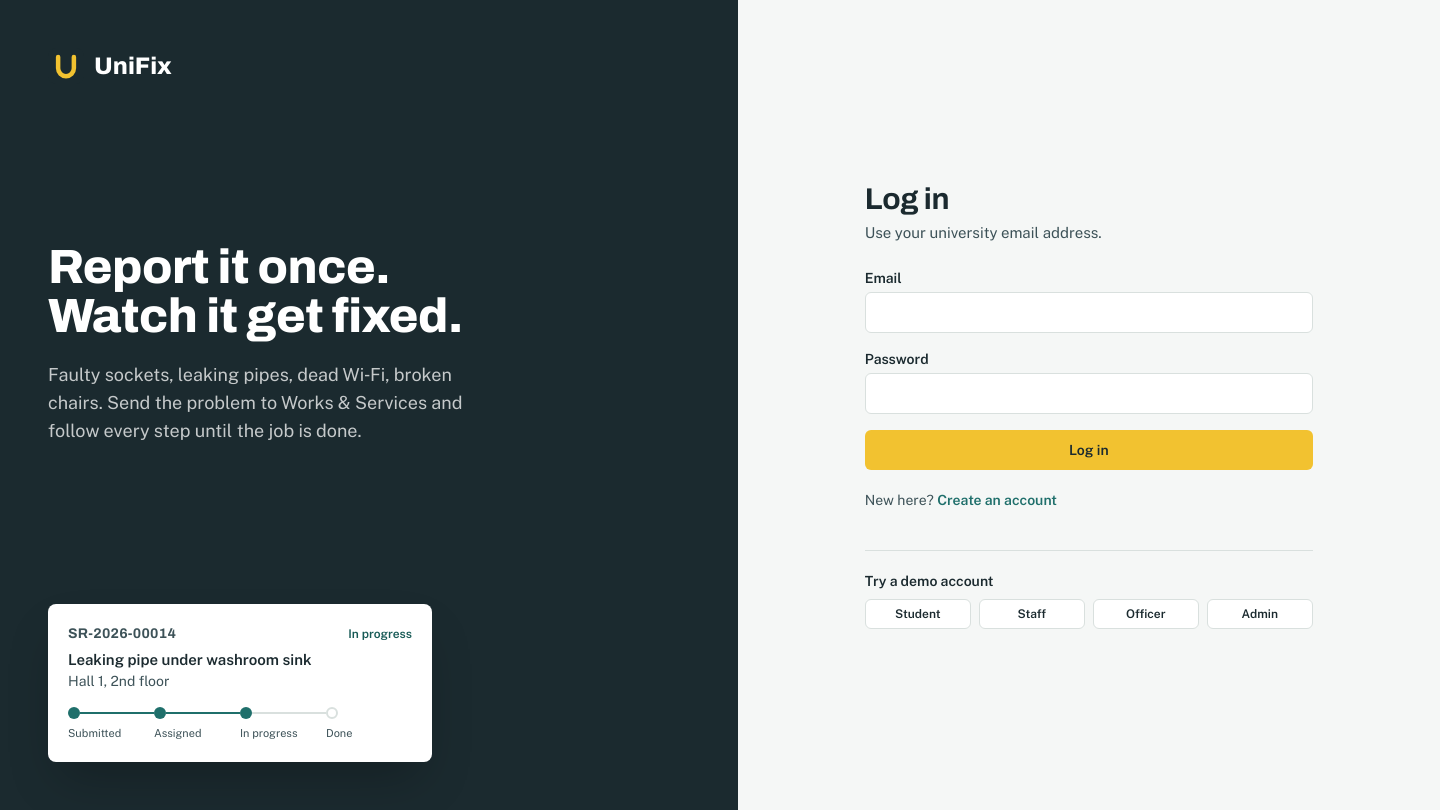
Test: LoginPage › fills credentials from a demo account button
Click the button "Admin".
click(1260, 614)  # box [1207,599,1313,629]
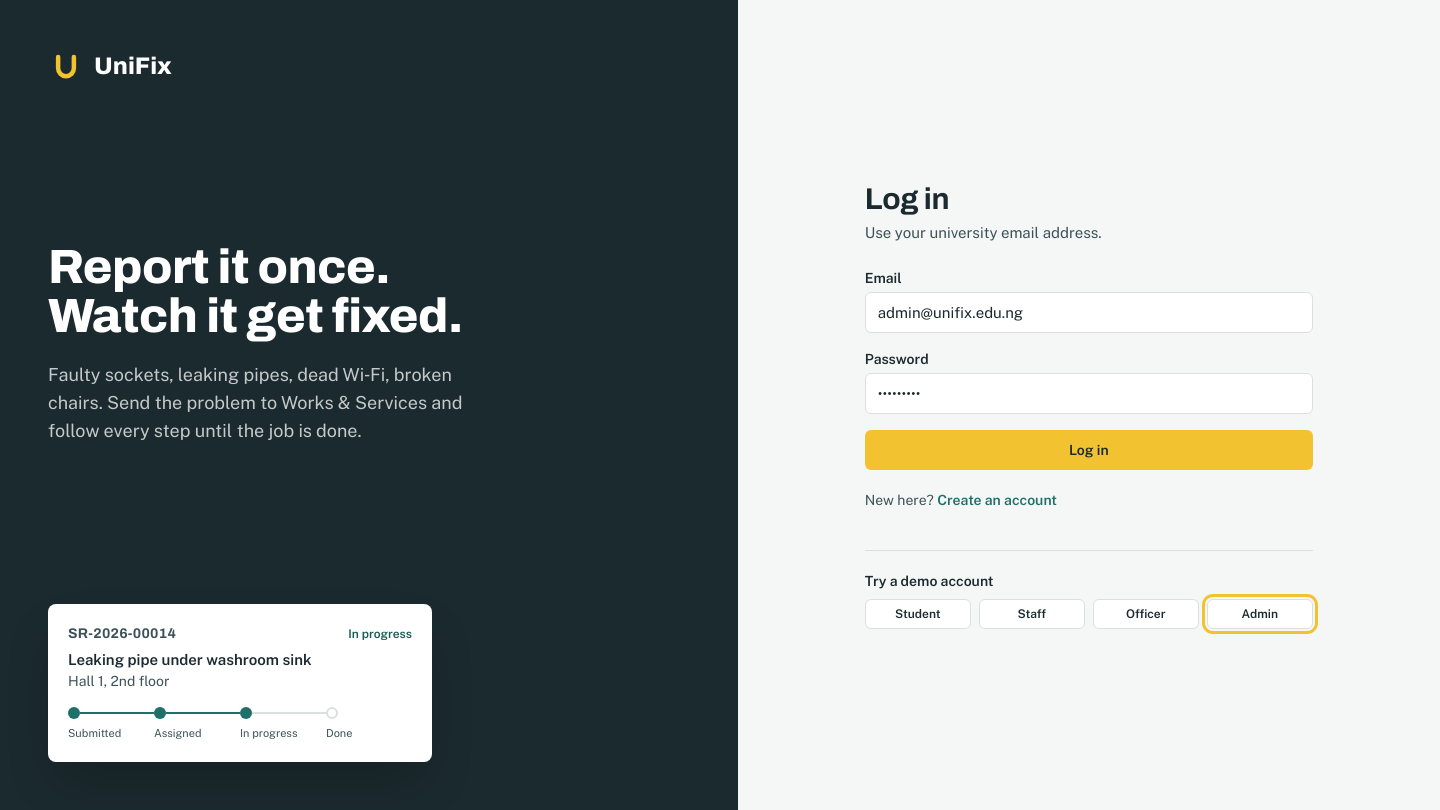
Check: the field labelled "Email" holds "admin@unifix.edu.ng", box [865,292,1313,333]
